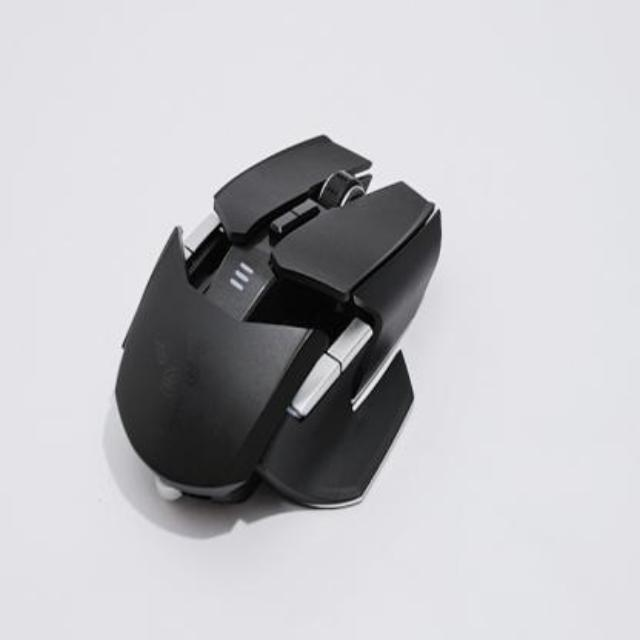Computer-Mouse: (92, 129, 440, 535)
